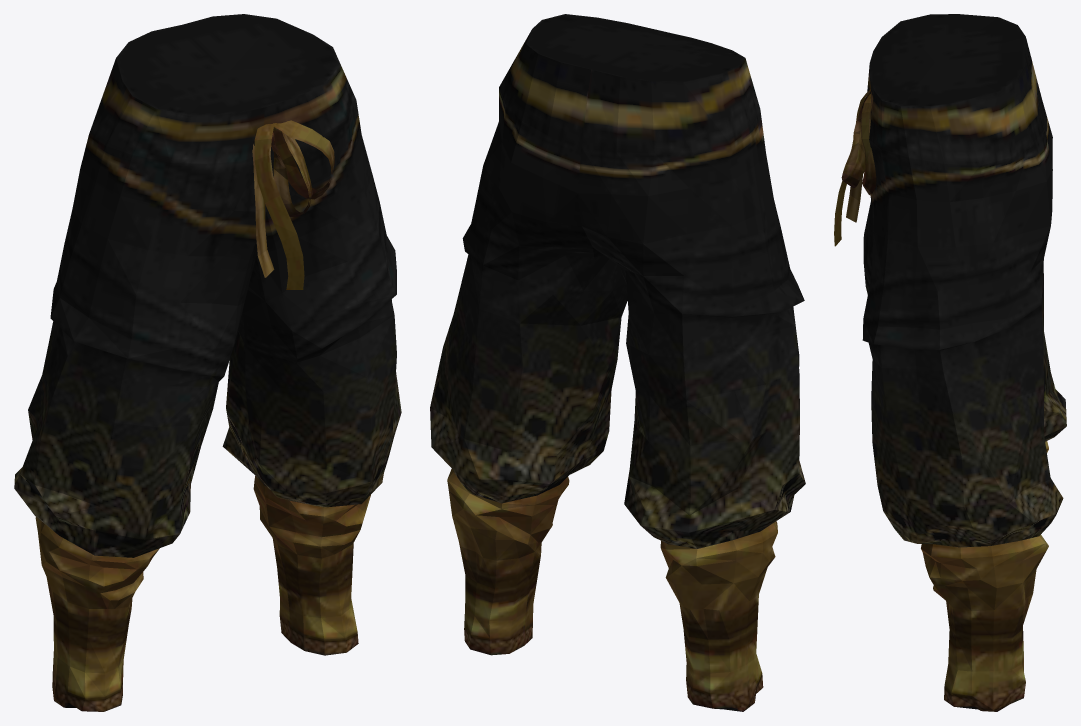
3 renders of one model, left to right at view 1: azimuth 30°, elevation 25°; view 2: azimuth 150°, elevation 25°; view 3: azimuth 270°, elevation 25°, orthographic. The views are drawn at different scales.
Visible parts, largest first — view 1: legs; view 2: legs; view 3: legs.
Part boxes in pixels (x1,y1,x2,y2): legs: [14, 14, 401, 711]; legs: [430, 14, 805, 711]; legs: [834, 14, 1066, 711].
Bounding box in the file's own units: 0.7203 × 1.22 × 0.4245.
Materials: 1 (1 with a texture image).
